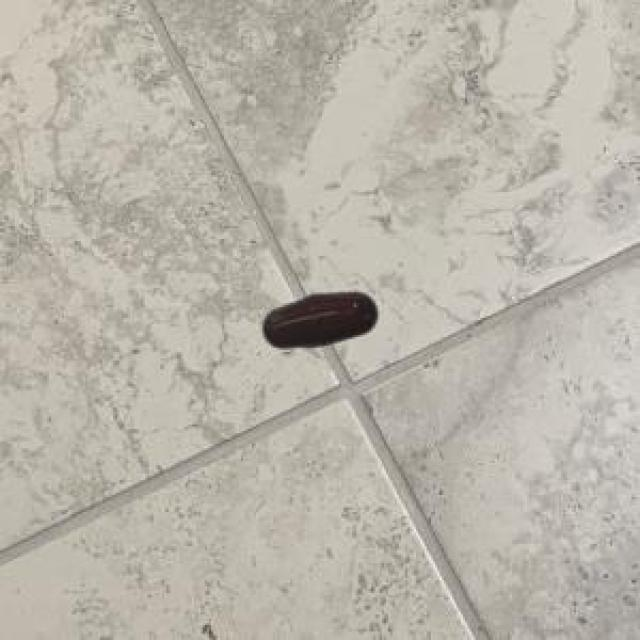DayZinc: (244, 270, 403, 370)
